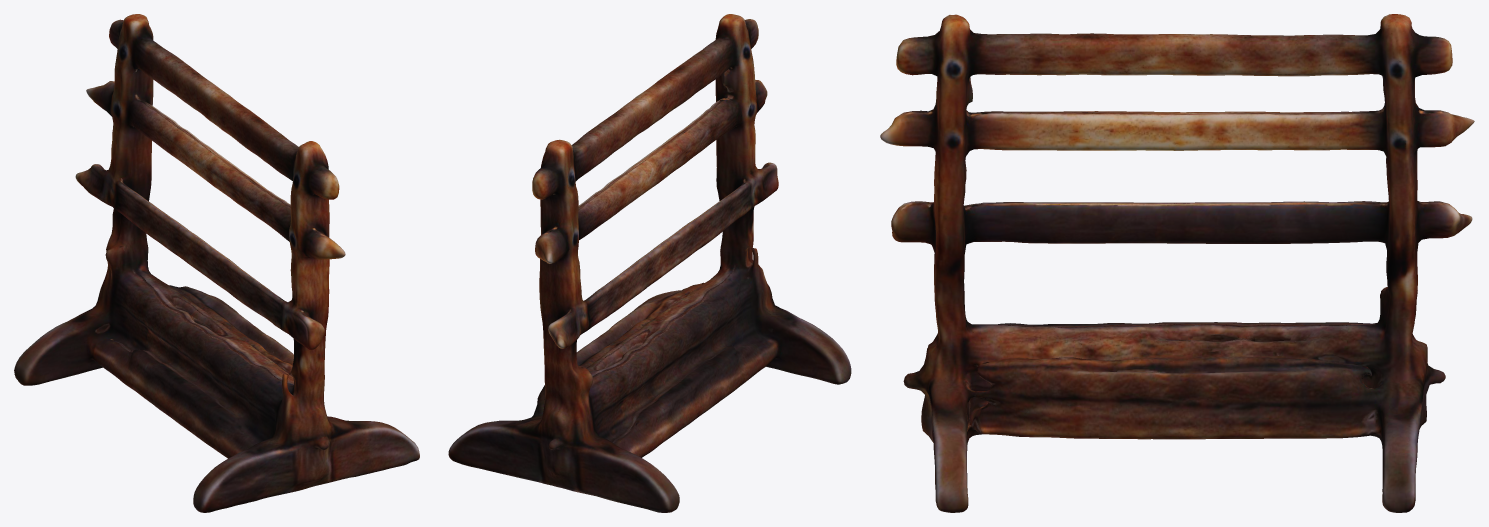
File: Weapon rack.fbx
3 views of the same model, side by side, from view 1: azimuth 30°, elevation 25°; view 2: azimuth 150°, elevation 25°; view 3: azimuth 270°, elevation 25° (orthographic). The views are drawn at different scales.
Visible parts, largest first — view 1: mesh; view 2: mesh; view 3: mesh.
Boxes of the visible parts, box(x1,y1,x2,y2) form: mesh: box(14, 14, 419, 512); mesh: box(448, 14, 851, 512); mesh: box(880, 14, 1474, 512).
Bounding box in the file's own units: 54.65 × 79.75 × 99.1.
